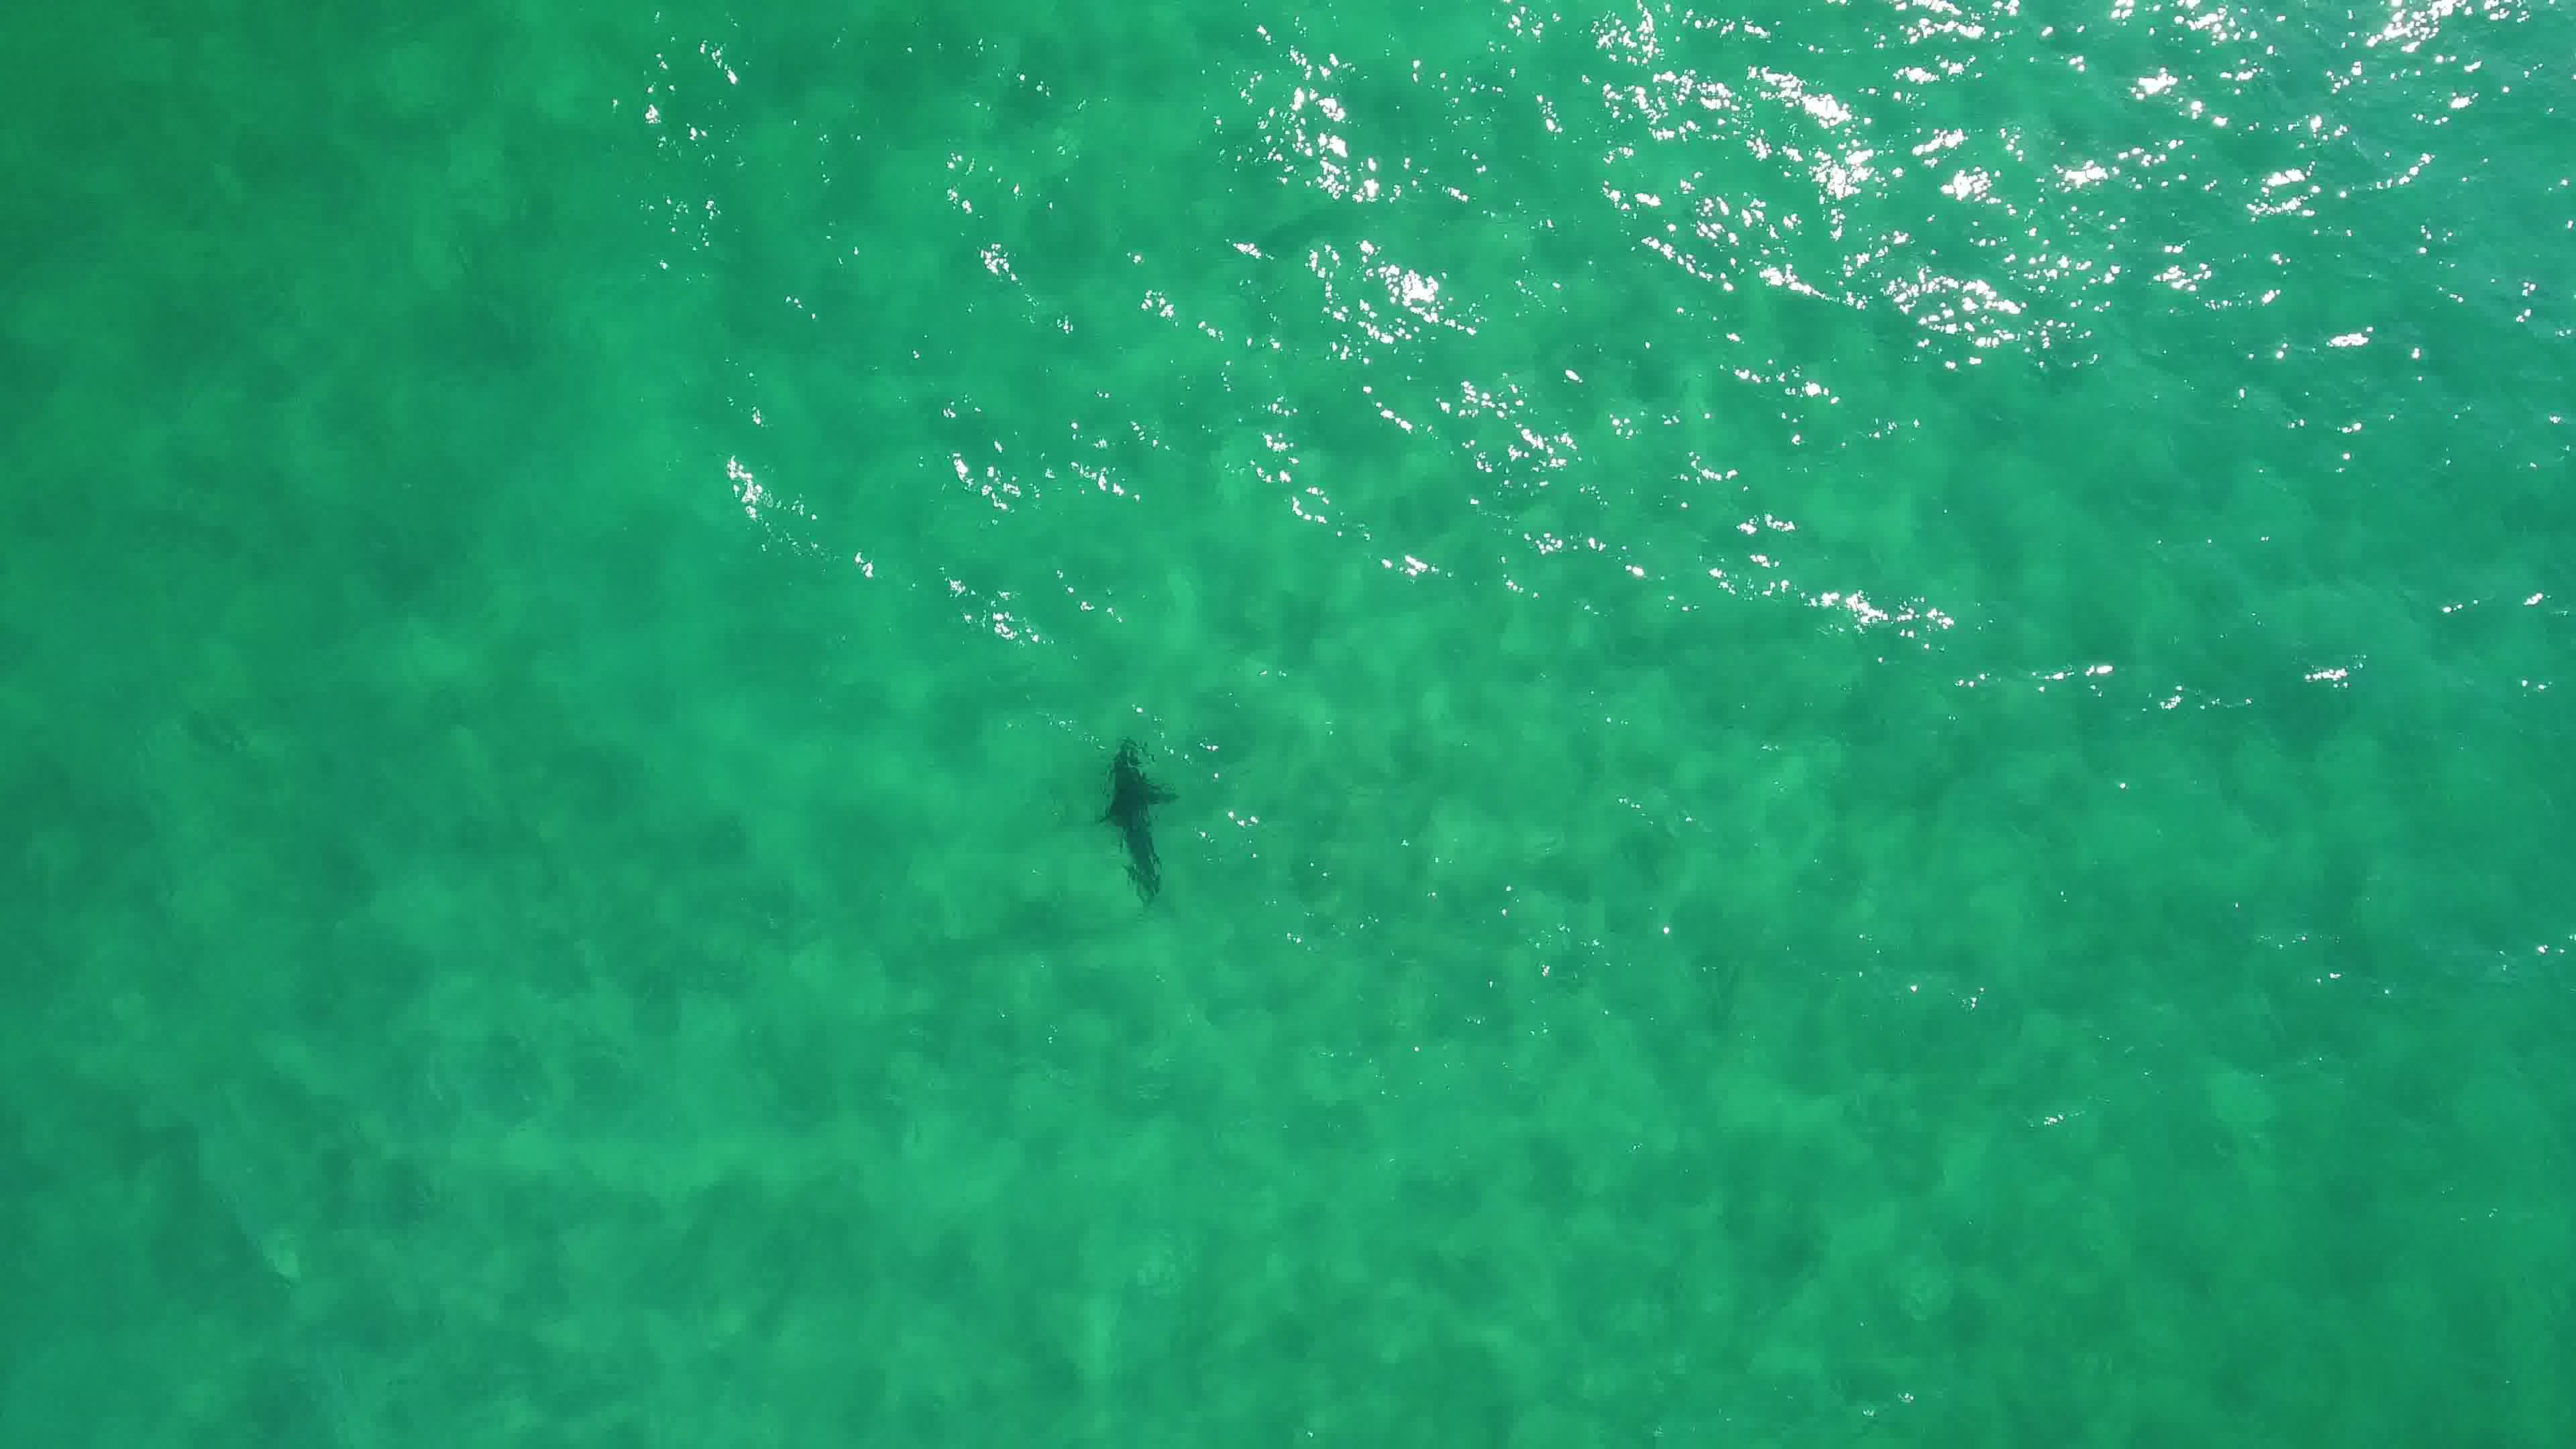shark: (1077, 736, 1182, 911)
